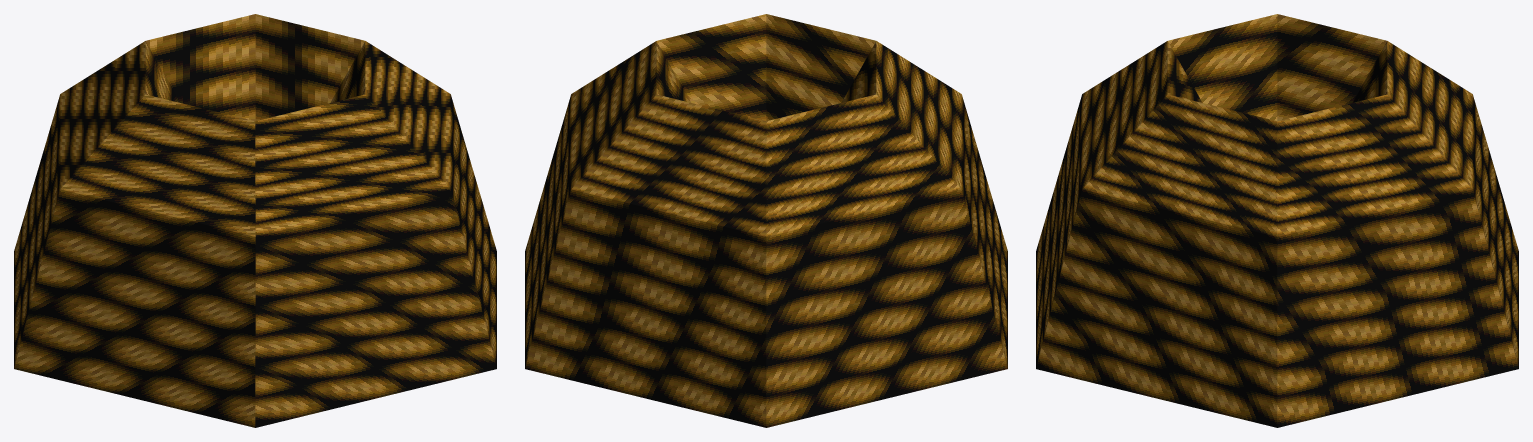
Rendered from Taurolle_1016.glb.
3 views of the same model, side by side, from view 1: azimuth 30°, elevation 25°; view 2: azimuth 150°, elevation 25°; view 3: azimuth 270°, elevation 25° (orthographic).
Visible parts, largest first — view 1: pConeShape1; view 2: pConeShape1; view 3: pConeShape1.
Part boxes in pixels (x1=…): pConeShape1: x1=14, y1=14, x2=496, y2=427; pConeShape1: x1=525, y1=14, x2=1007, y2=427; pConeShape1: x1=1036, y1=14, x2=1518, y2=427.
Bounding box in the file's own units: 0.2286 × 0.1097 × 0.198.
1 material, 1 textured.
